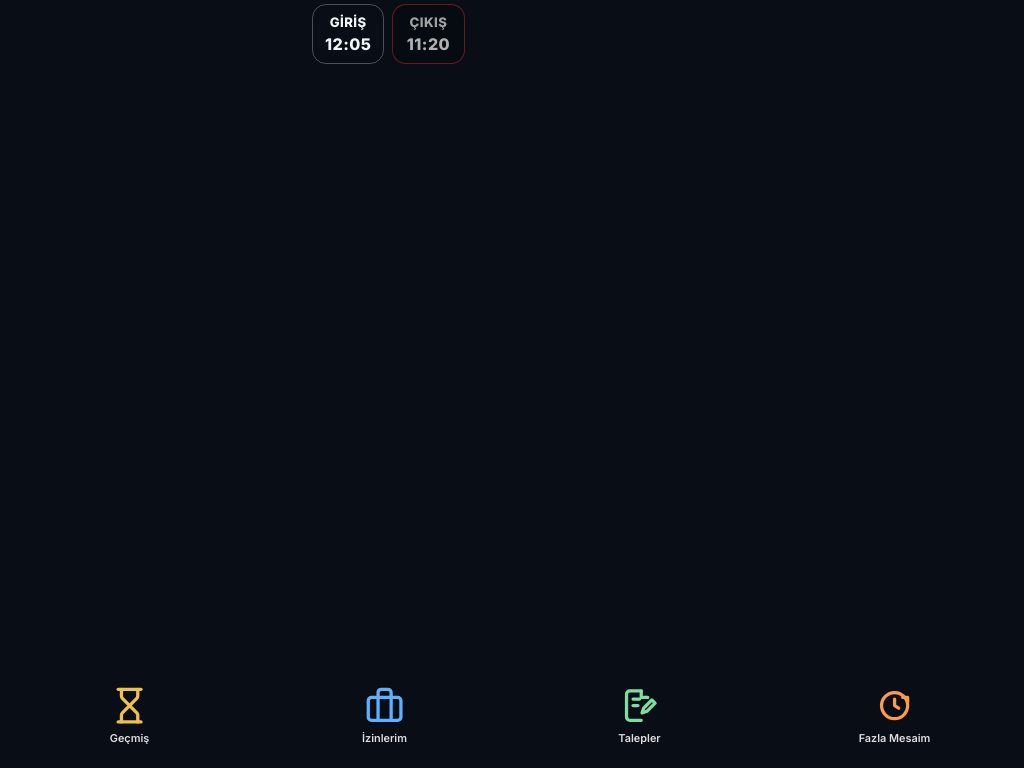
PERSONEL collar → QR UI entitlement (render level) › completed cycle re-enables GİRİŞ CTA while showing prior clocks
The width and height of the screenshot is (1024, 768).
Expected: the button with test id "giris-scan" is enabled, [313, 5, 383, 63]
Expected: the button with test id "giris-scan" shows "12:05", [313, 5, 383, 63]
Click the button with test id "cikis-scan": x=428, y=34 [393, 5, 464, 63]
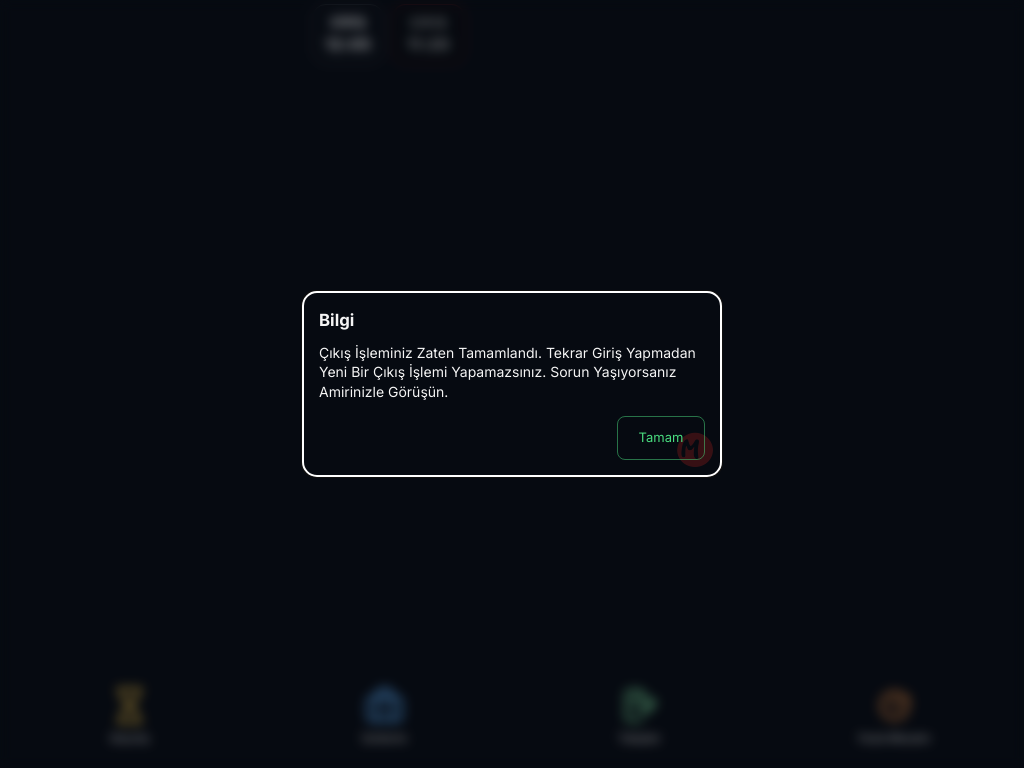
Expected: the dialog with test id "personel-notice-modal" is shown, [302, 291, 722, 476]
Expected: the text "Çıkış İşleminiz Zaten Tamamlandı. Tekrar Giriş Yapmadan Yeni Bir Çıkış İşlemi Yapamazsınız. Sorun Yaşıyorsanız Amirinizl" is shown, [319, 344, 696, 400]
